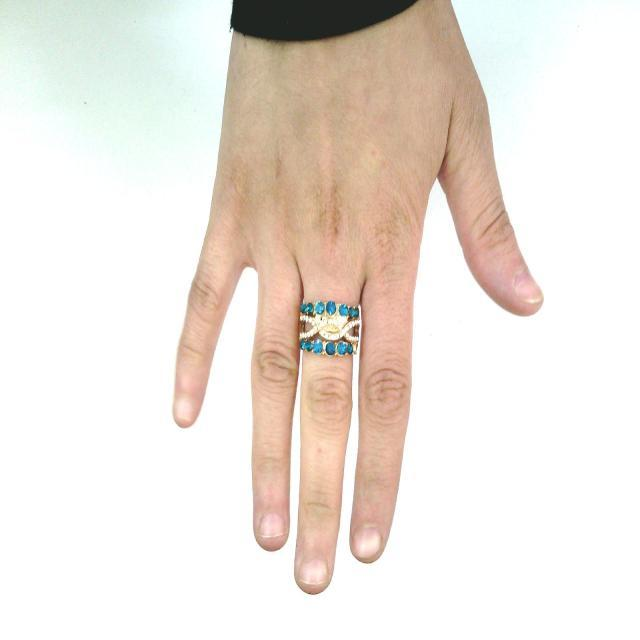Fingernail: (516, 273, 541, 303), (356, 529, 380, 559), (299, 561, 326, 584), (261, 514, 283, 538), (176, 400, 194, 422)
